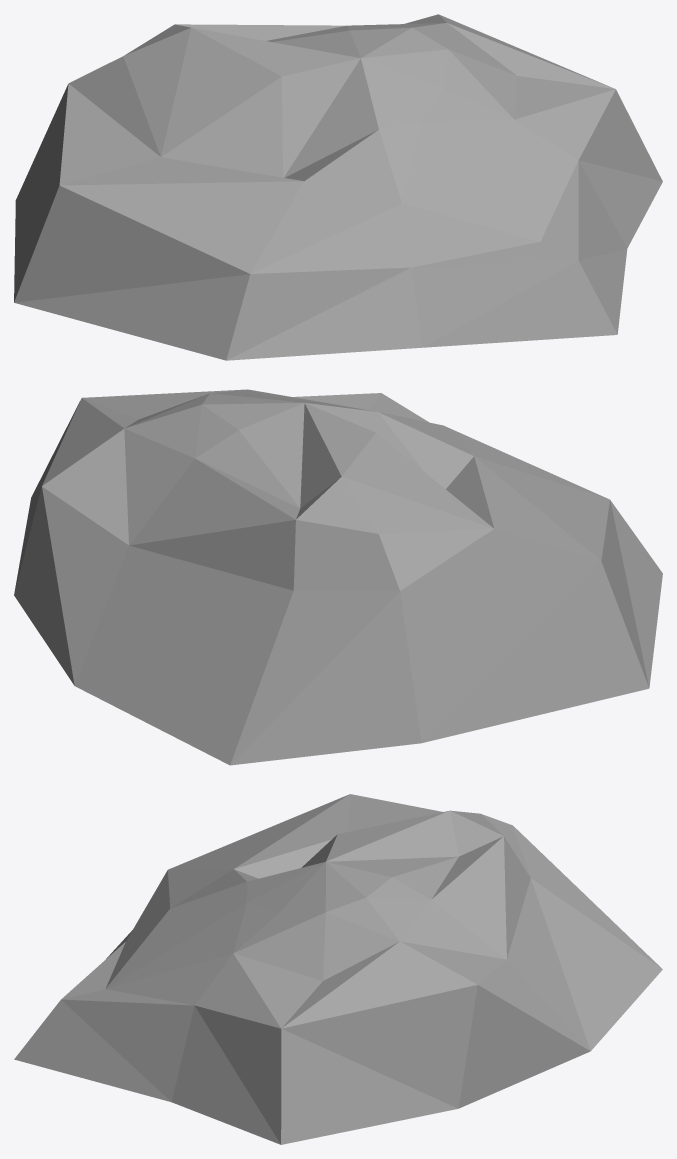
File: Isl_1_Stone_1.fbx
3 renders of one model, top to bottom at view 1: azimuth 30°, elevation 25°; view 2: azimuth 150°, elevation 25°; view 3: azimuth 270°, elevation 25°, orthographic. The views are drawn at different scales.
Visible parts, largest first — view 1: Isl_1_Stone_1; view 2: Isl_1_Stone_1; view 3: Isl_1_Stone_1.
Part boxes in pixels (x1,y1,x2,y2): Isl_1_Stone_1: [14, 14, 662, 360]; Isl_1_Stone_1: [14, 389, 662, 765]; Isl_1_Stone_1: [14, 794, 662, 1144].
Size of the model in its own units: 397 by 399 by 111.
1 material, 1 textured.
